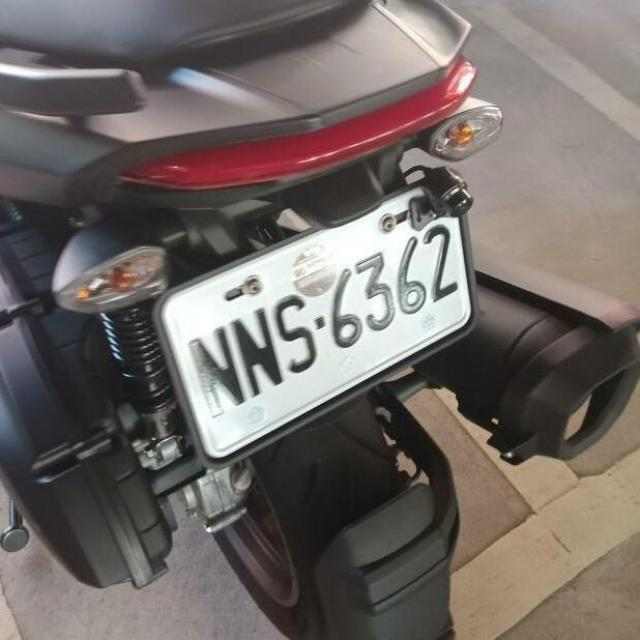W: (137, 160, 497, 471)
